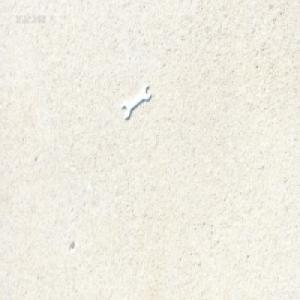Wrench: (121, 83, 152, 119)
